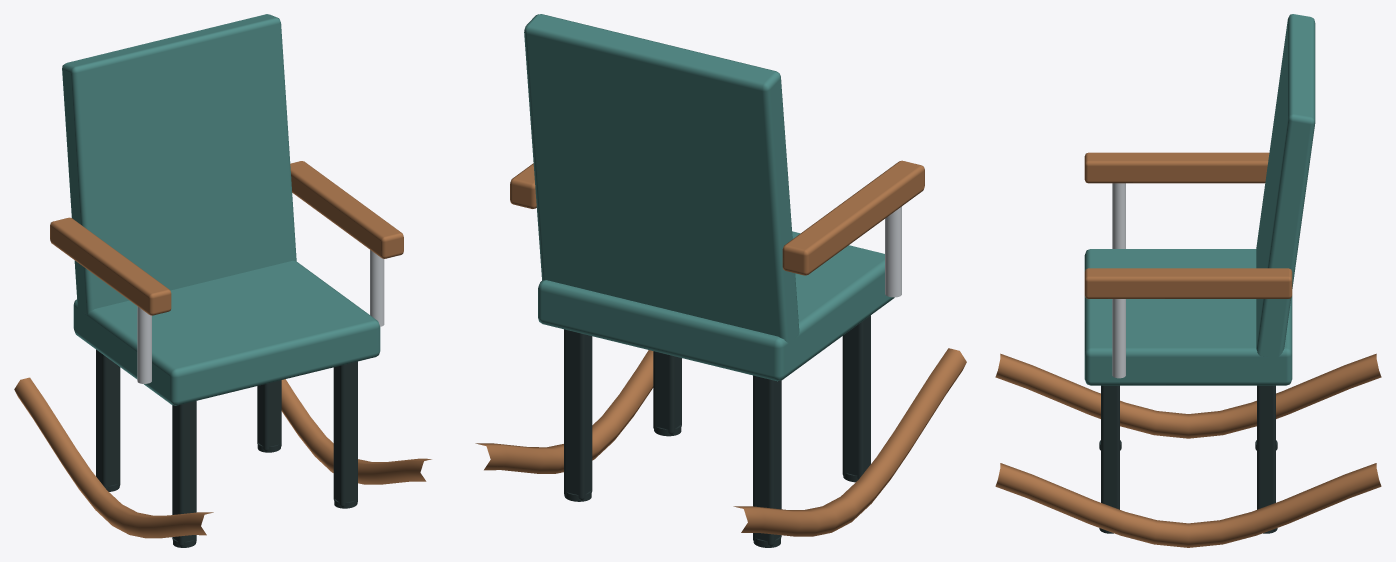
File: wp-fauteuil-a-bascule.glb
The picture shows the model from 3 angles, left to right: view 1: azimuth 30°, elevation 25°; view 2: azimuth 150°, elevation 25°; view 3: azimuth 270°, elevation 25°; orthographic projection. The views are drawn at different scales.
Parts seen in each view (by area): view 1: wp-fauteuil-a-bascule; view 2: wp-fauteuil-a-bascule; view 3: wp-fauteuil-a-bascule.
Boxes of the visible parts, x1,y1,x2,y2 form: wp-fauteuil-a-bascule: [14, 14, 431, 547]; wp-fauteuil-a-bascule: [475, 14, 966, 547]; wp-fauteuil-a-bascule: [995, 14, 1381, 547].
Bounding box in the file's own units: 0.7 × 1.1 × 0.9.
